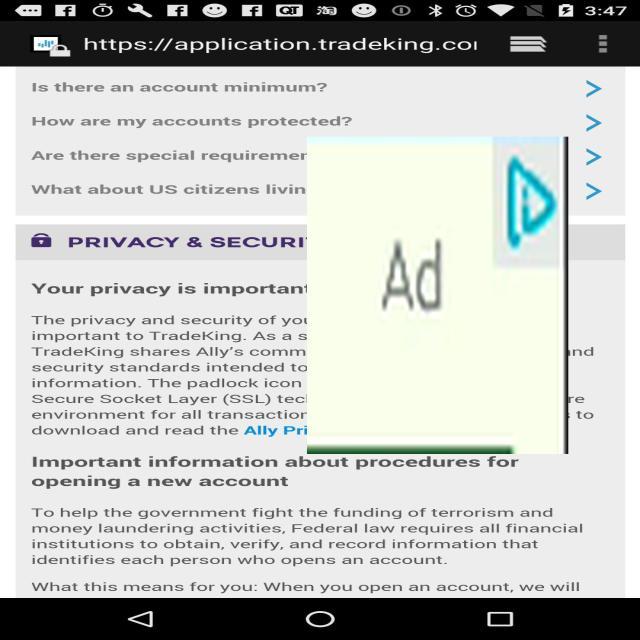sneaking: (307, 137, 568, 454)
